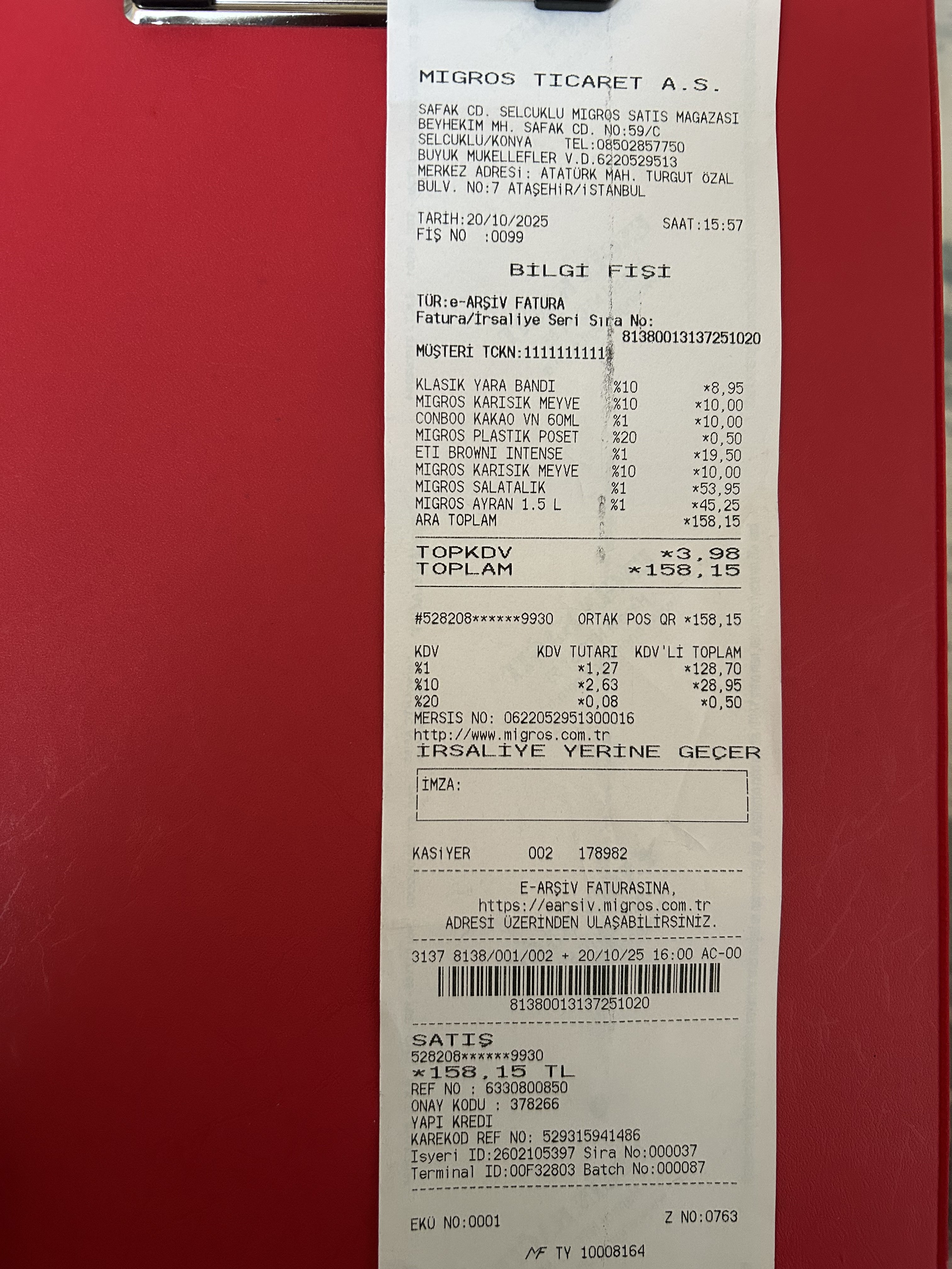date: (641, 559, 744, 584)
price: (466, 210, 550, 228)
workplace: (409, 65, 746, 154)
